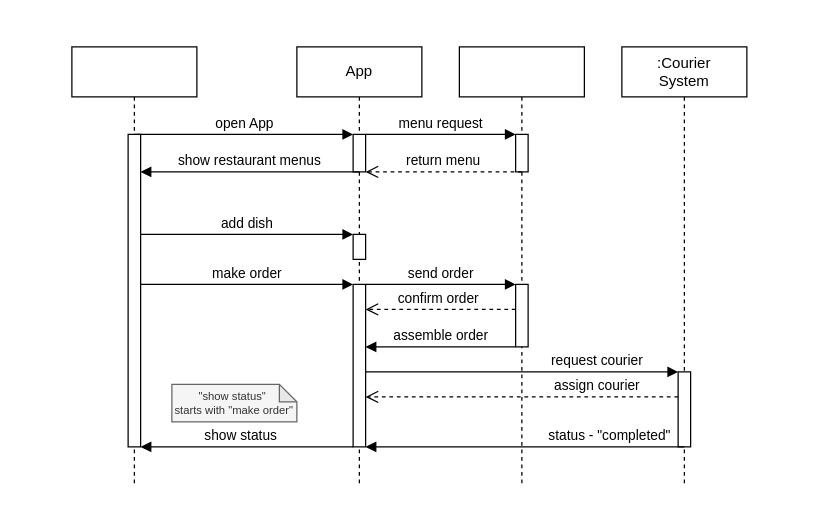
This 819x531 diagram has some shape labels left out. The box of each missing label's shape, as (x1, y1, x2, y2) in pixels:
:Client: (71, 46, 197, 484)
:Restaurant System: (458, 46, 584, 484)
